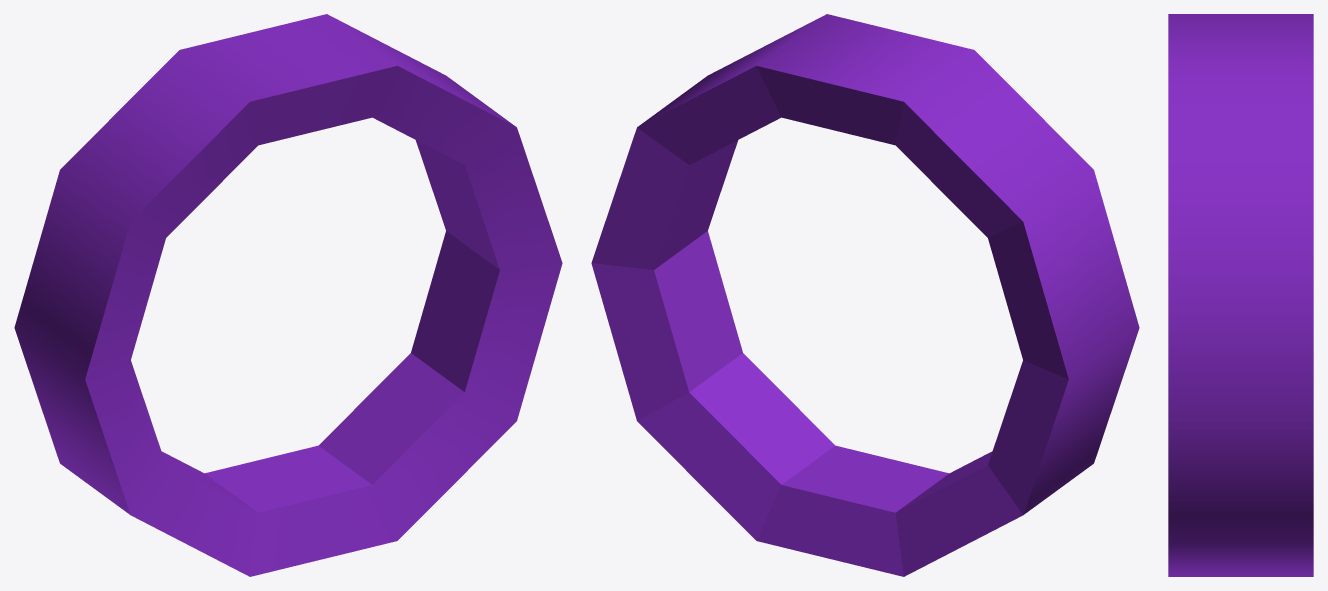
Rendered from chives chopped.fbx.
3 views of the same model, side by side, from view 1: azimuth 30°, elevation 25°; view 2: azimuth 150°, elevation 25°; view 3: azimuth 270°, elevation 25° (orthographic). The views are drawn at different scales.
Visible parts, largest first — view 1: chives chopped; view 2: chives chopped; view 3: chives chopped.
Boxes of the visible parts, box(x1,y1,x2,y2) form: chives chopped: box(14, 14, 562, 576); chives chopped: box(591, 14, 1139, 576); chives chopped: box(1168, 14, 1313, 576).
Bounding box in the file's own units: 0.7115 × 0.6767 × 0.1826.
